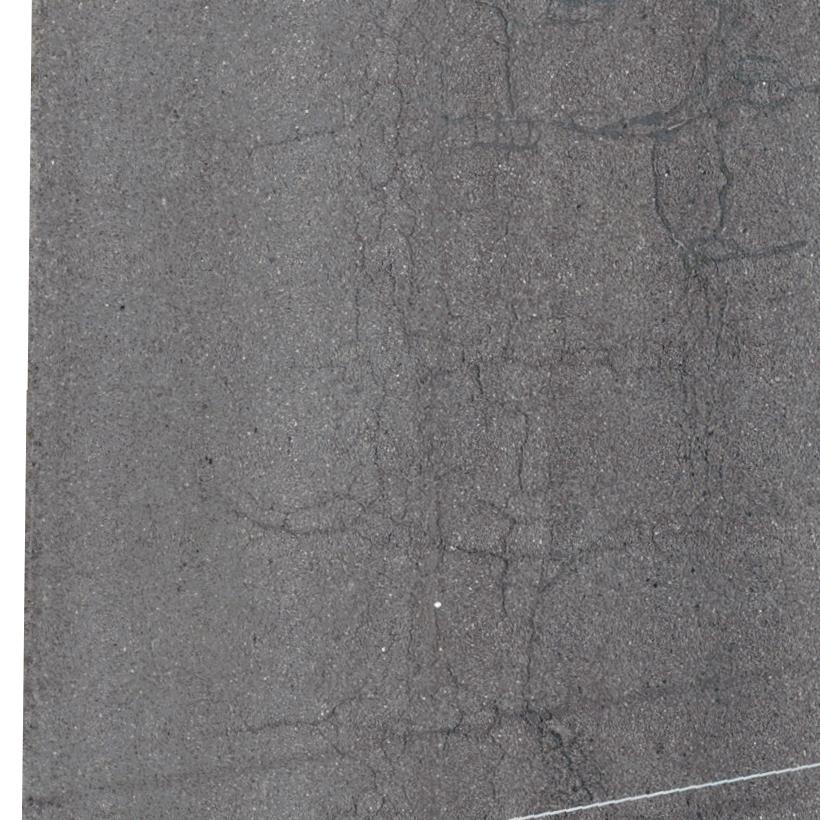GRIETA: (246, 129, 330, 159), (729, 240, 806, 259), (236, 719, 309, 734), (548, 118, 605, 135)
PIEL DE COCODRILO: (278, 0, 621, 819), (600, 47, 797, 570)
